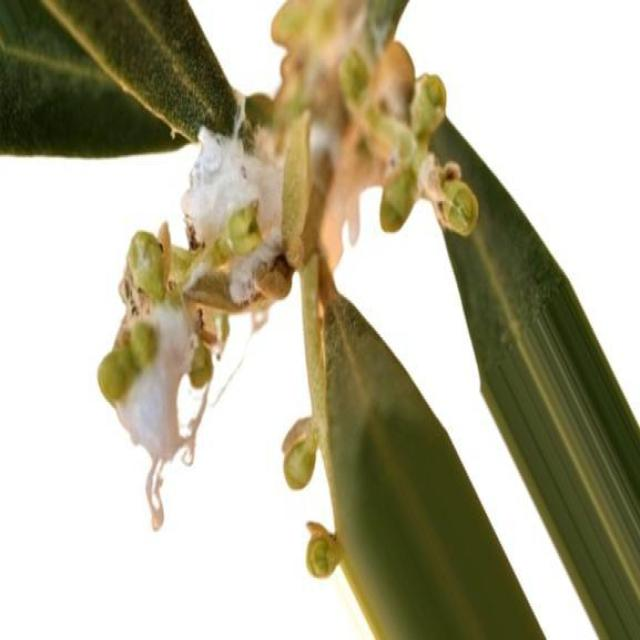Psyllid: (98, 129, 291, 529)
